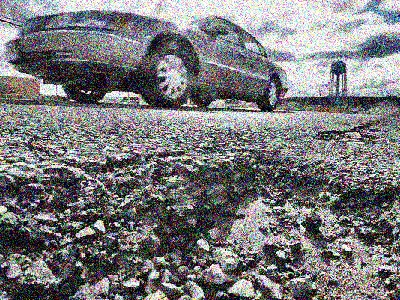pothole: (1, 145, 400, 299), (313, 129, 352, 142)
